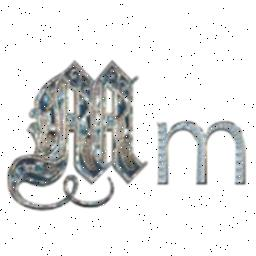m: (6, 52, 158, 208), (148, 110, 248, 194)
